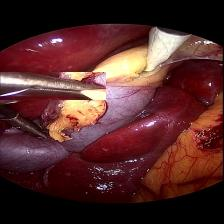Grasper: (0, 70, 106, 98), (5, 112, 54, 140)
Hook: (132, 28, 192, 80)
